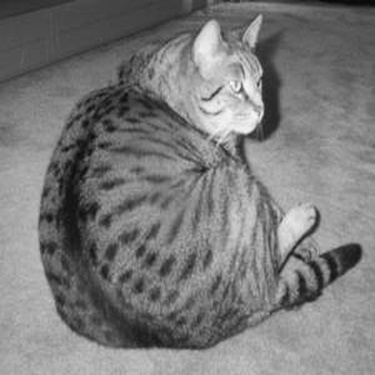cat: (34, 13, 359, 329)
